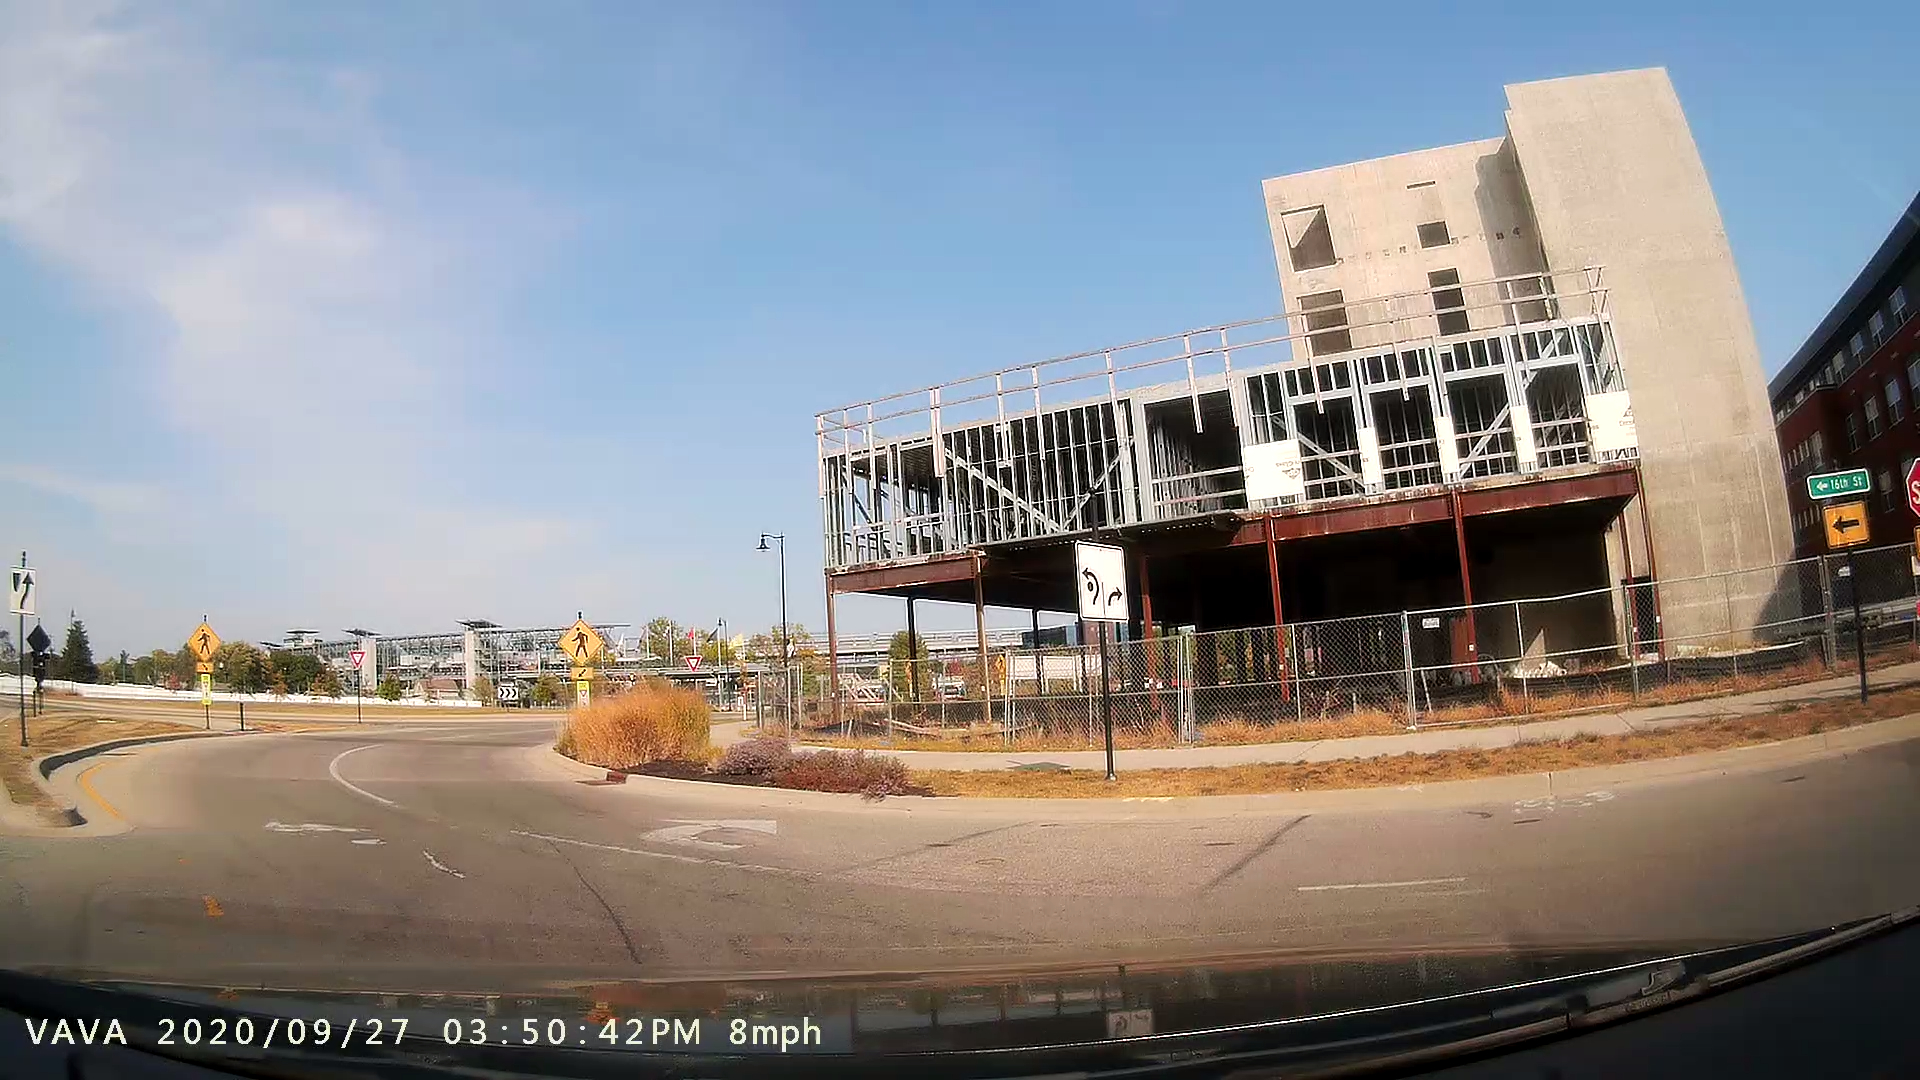right_turn: (632, 800, 785, 853)
